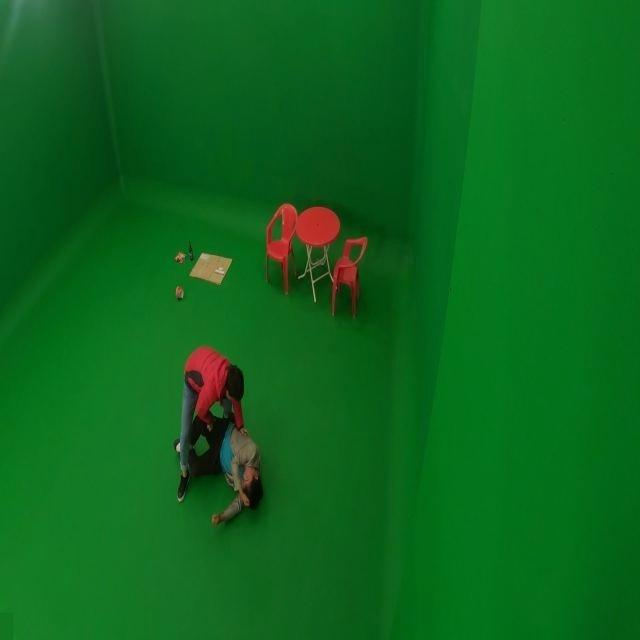fight: (172, 345, 266, 525)
